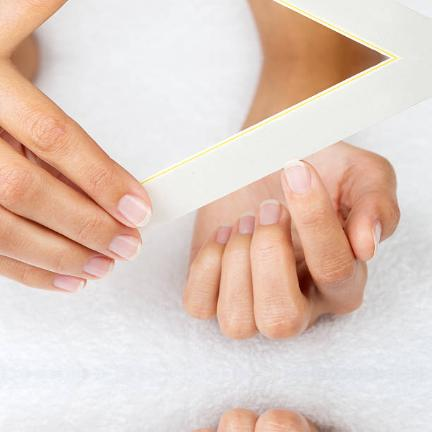Nail: (117, 194, 152, 226), (284, 160, 311, 193), (108, 234, 142, 260), (83, 255, 114, 277), (53, 274, 85, 291), (260, 199, 281, 224), (373, 219, 383, 258), (238, 211, 255, 233), (216, 223, 232, 243)
